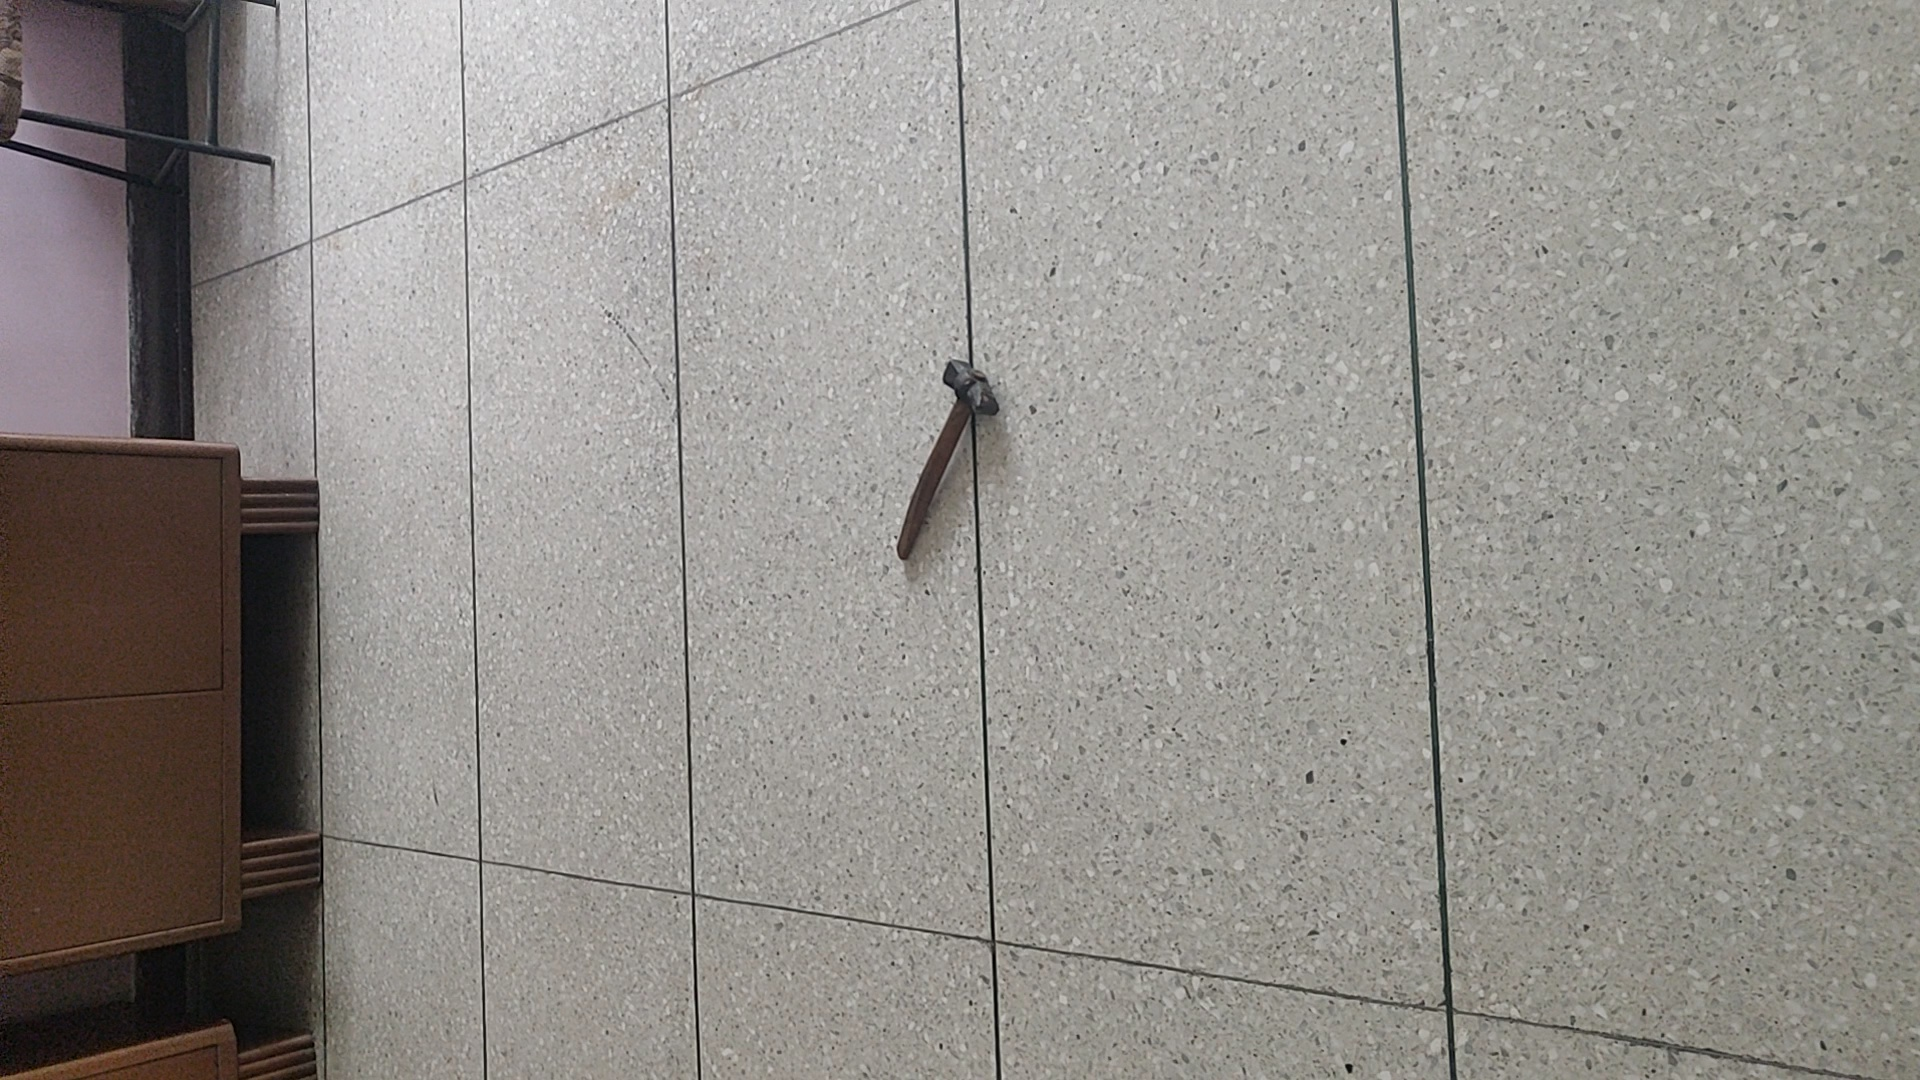hammer: (891, 355, 1000, 564)
